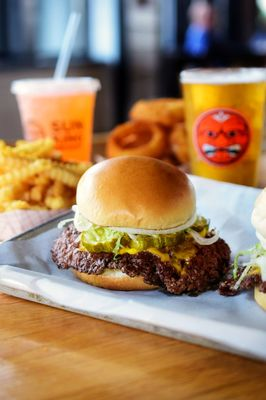pizza: (180, 66, 266, 188)
